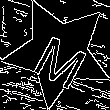M_NE: (26, 19, 91, 86)
